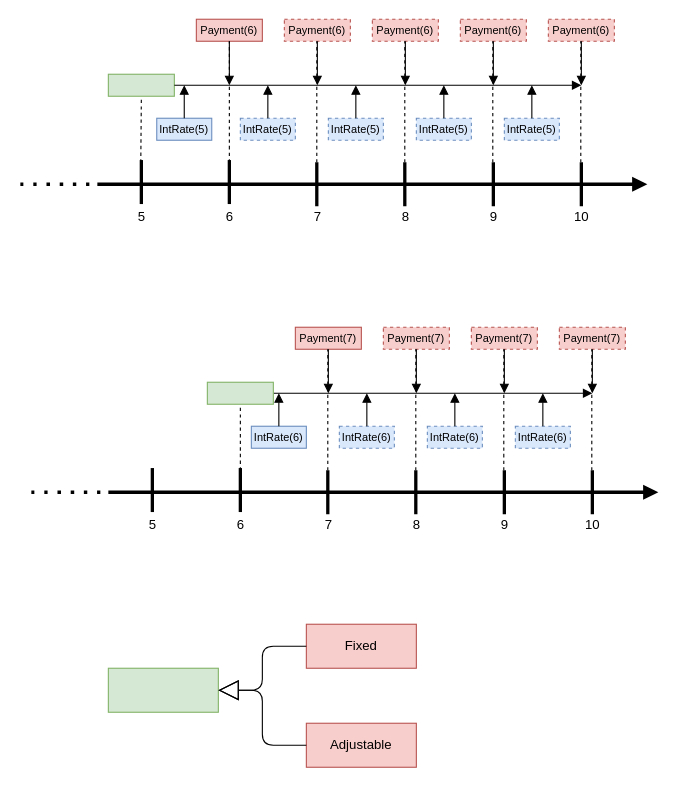
The diagram is 688 pixels wide and 787 high, and some of its shapes have lost their labels. The box of each missing label's shape, as (x1, y1, x2, y2) in pixels:
Balance(5): (107, 73, 174, 96)
Balance(6): (206, 381, 273, 404)
BaseMortgage: (107, 667, 218, 712)
